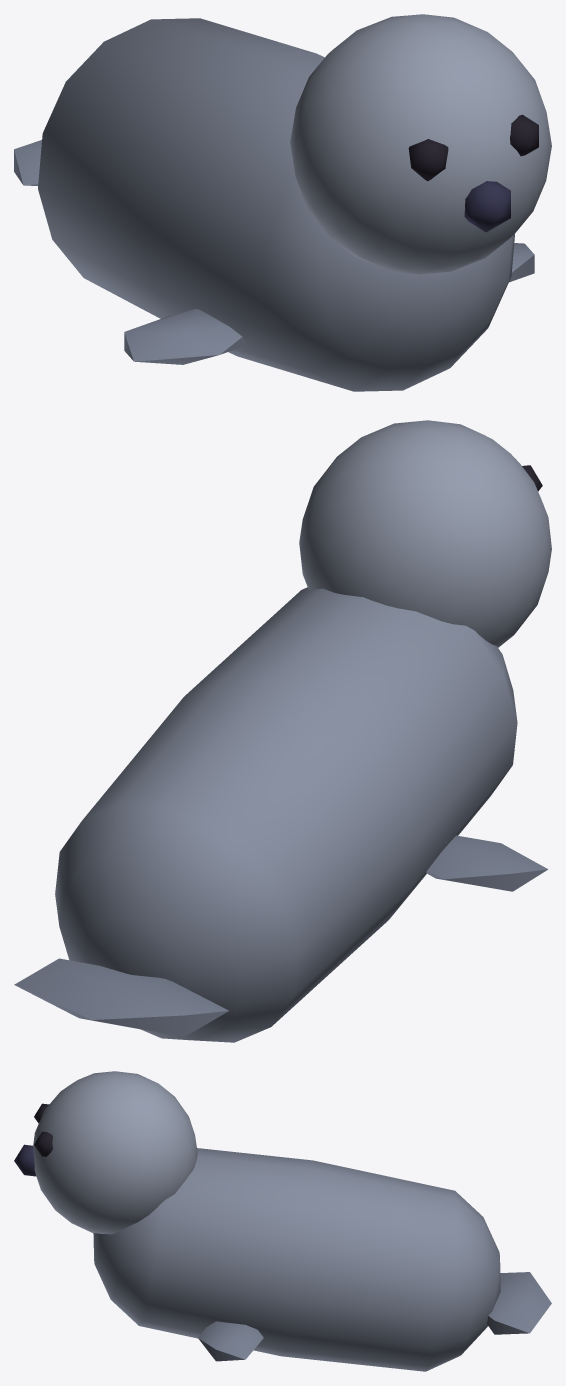
The model's file is seal.fbx.
3 renders of one model, top to bottom at view 1: azimuth 30°, elevation 25°; view 2: azimuth 150°, elevation 25°; view 3: azimuth 270°, elevation 25°, orthographic. The views are drawn at different scales.
Parts seen in each view (by area): view 1: Body, Head; view 2: Body, Head; view 3: Body, Head.
Boxes of the visible parts, x1,y1,x2,y2 form: Body: (14,18,534,391); Head: (290,14,551,274); Body: (14,587,547,1042); Head: (299,420,551,647); Body: (93,1148,551,1371); Head: (14,1071,197,1234).
Size of the model in its own units: 0.3652 by 0.3797 by 0.65.
